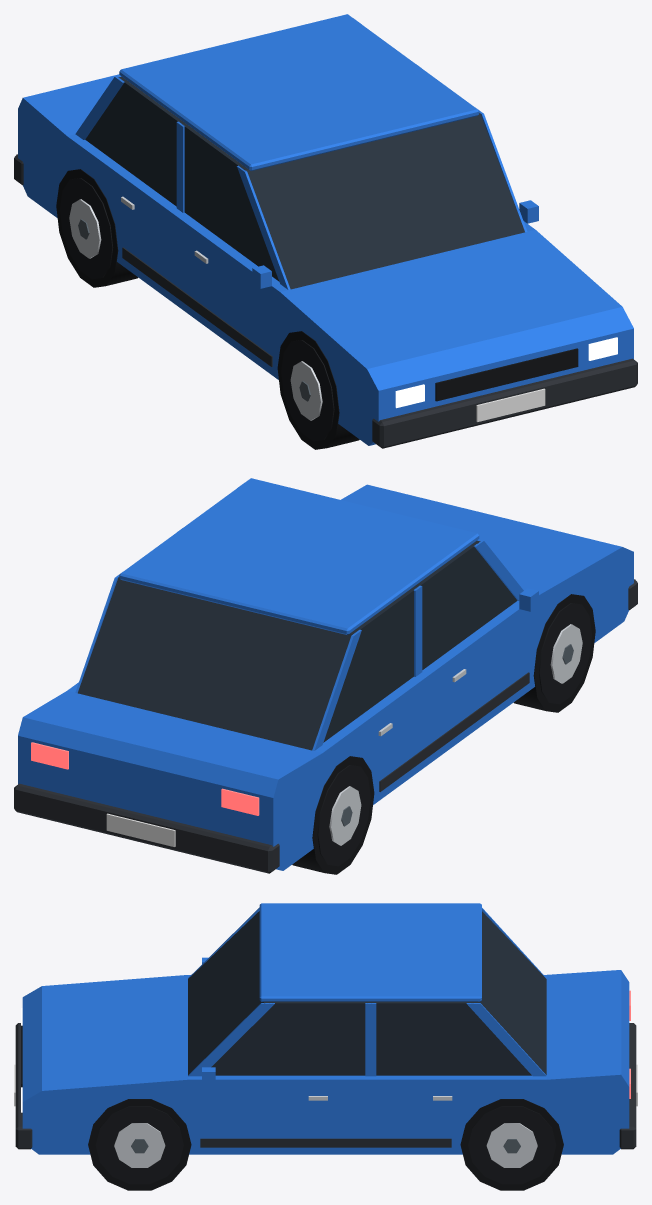
Rendered from sedan.glb.
The picture shows the model from 3 angles, top to bottom: view 1: azimuth 30°, elevation 25°; view 2: azimuth 150°, elevation 25°; view 3: azimuth 270°, elevation 25°; orthographic projection. The views are drawn at different scales.
Visible parts, largest first — view 1: sedan; view 2: sedan; view 3: sedan.
Part boxes in pixels (bbox=[...]): sedan: bbox=[14, 14, 637, 449]; sedan: bbox=[14, 478, 637, 874]; sedan: bbox=[14, 903, 637, 1190].
Bounding box in the file's own units: 1.96 × 1.51 × 4.52.
